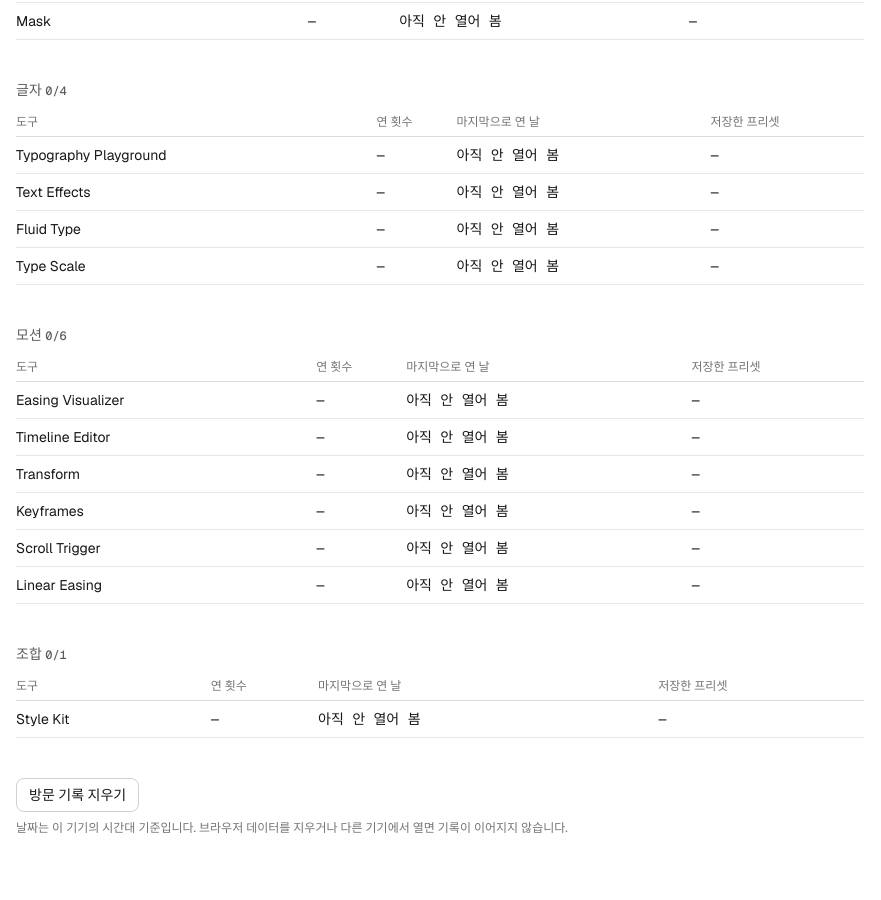
Test: RecordBoard › 지우기를 확인하면 기록이 사라진다
The image size is (881, 900).
(page scrolled)
Click the button "방문 기록 지우기" at (78, 795), box x1=16 y1=778 x2=139 y2=812
(page scrolled)
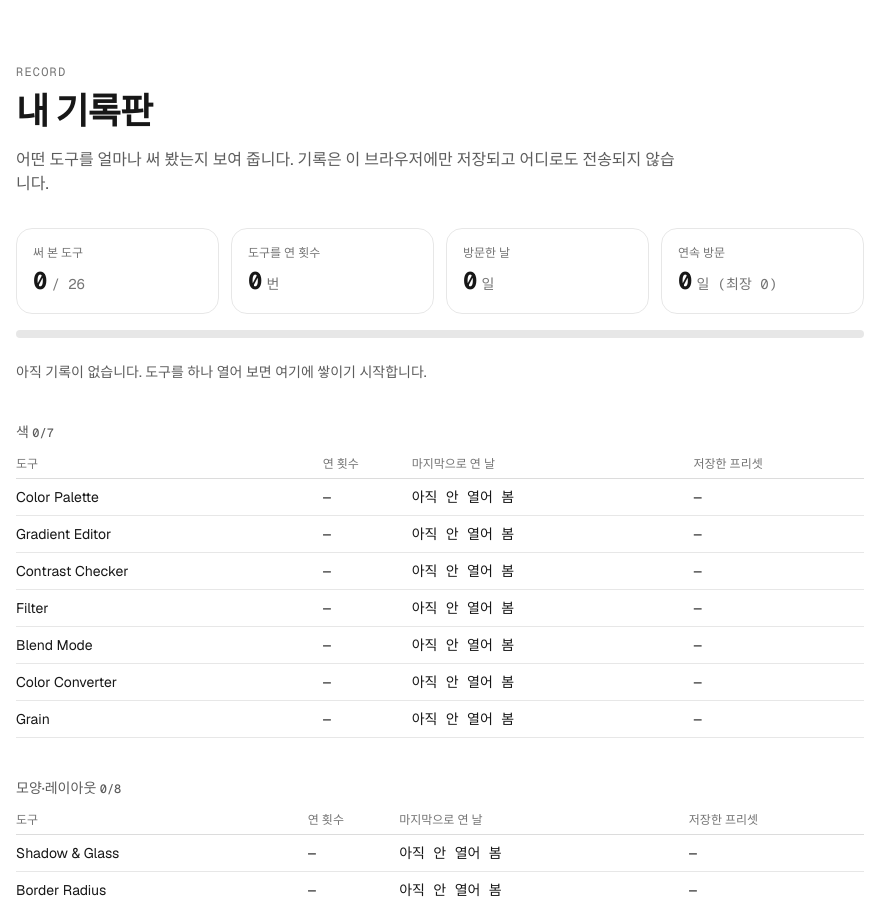
Result: the text "아직 기록이 없습니다. 도구를 하나 열어 보면 여기에 쌓이기 시작합니다." is shown at x1=16 y1=363 x2=427 y2=381
